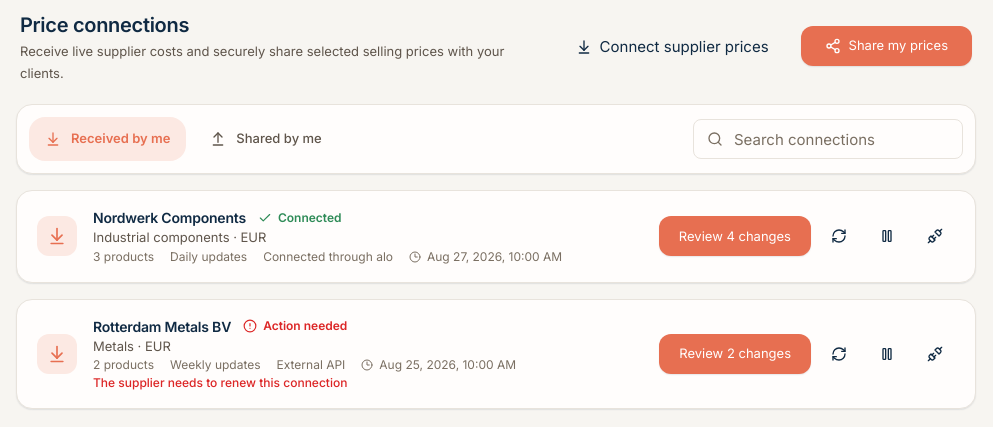
it: price connections › shows both directions without mixing supplier and client catalogues
Expected: the heading "Nordwerk Components" is shown, [93,207,246,228]
Expected: the text "Atlas Advisory GmbH" is not shown
Click the tab "Shared by me": x=266, y=139 [194,117,338,161]
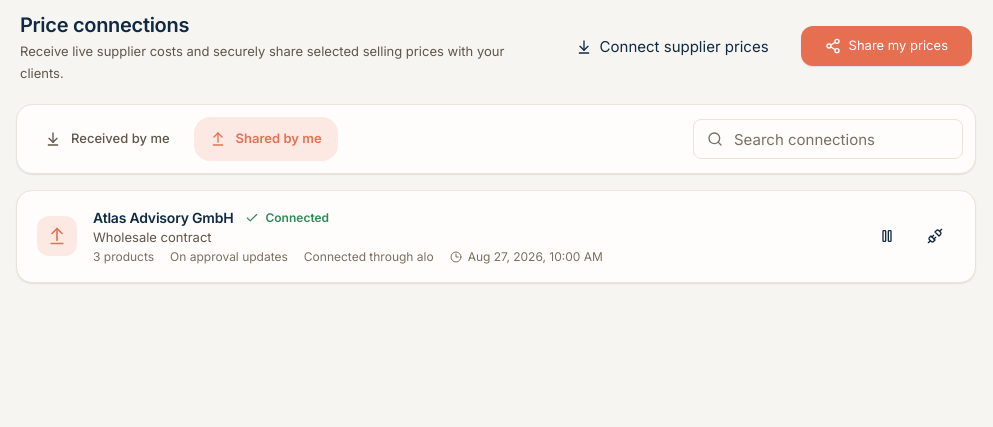
Now the heading "Atlas Advisory GmbH" is shown, box [93,207,234,228]
Now the heading "Nordwerk Components" is gone
